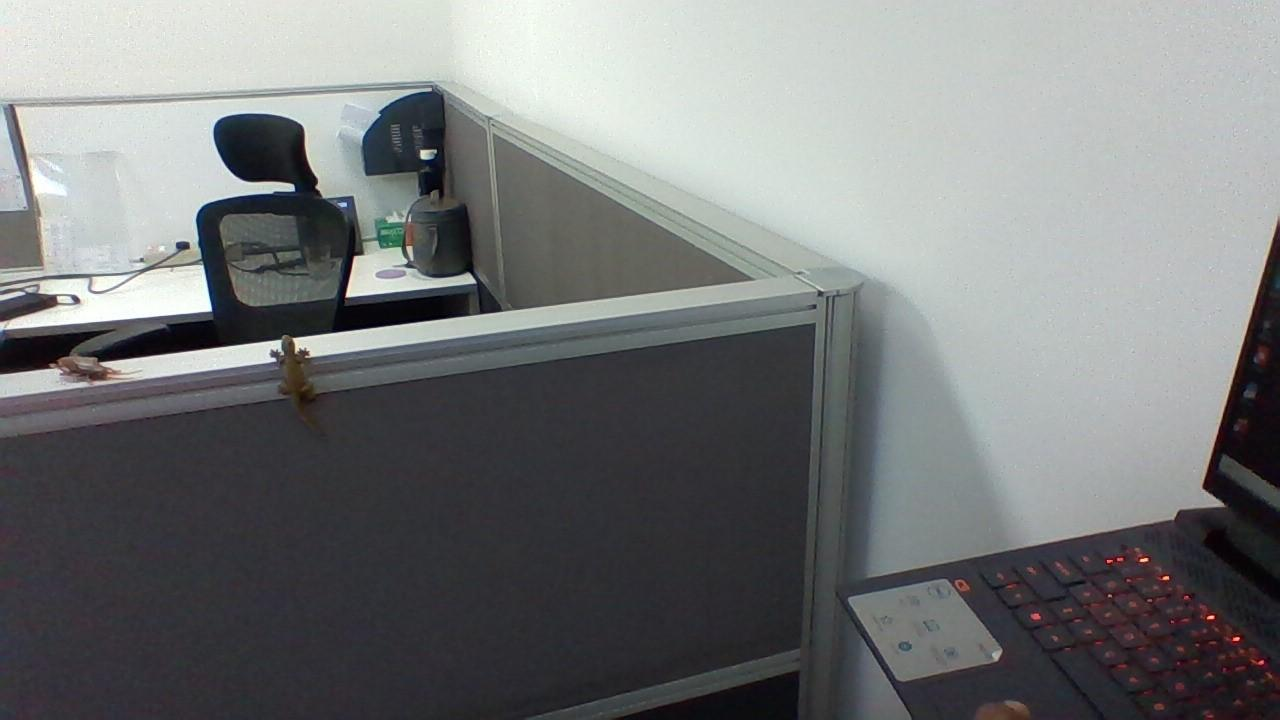cockroach: (40, 350, 147, 398)
lizard: (272, 319, 342, 453)
